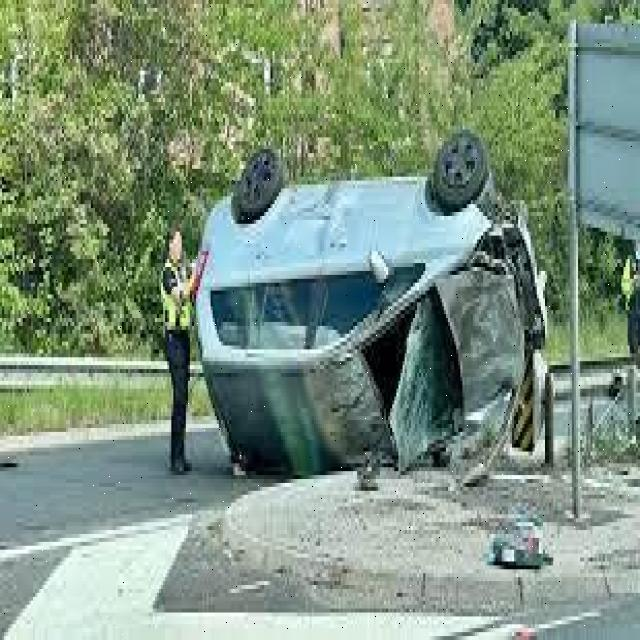severe: (191, 135, 550, 489)
